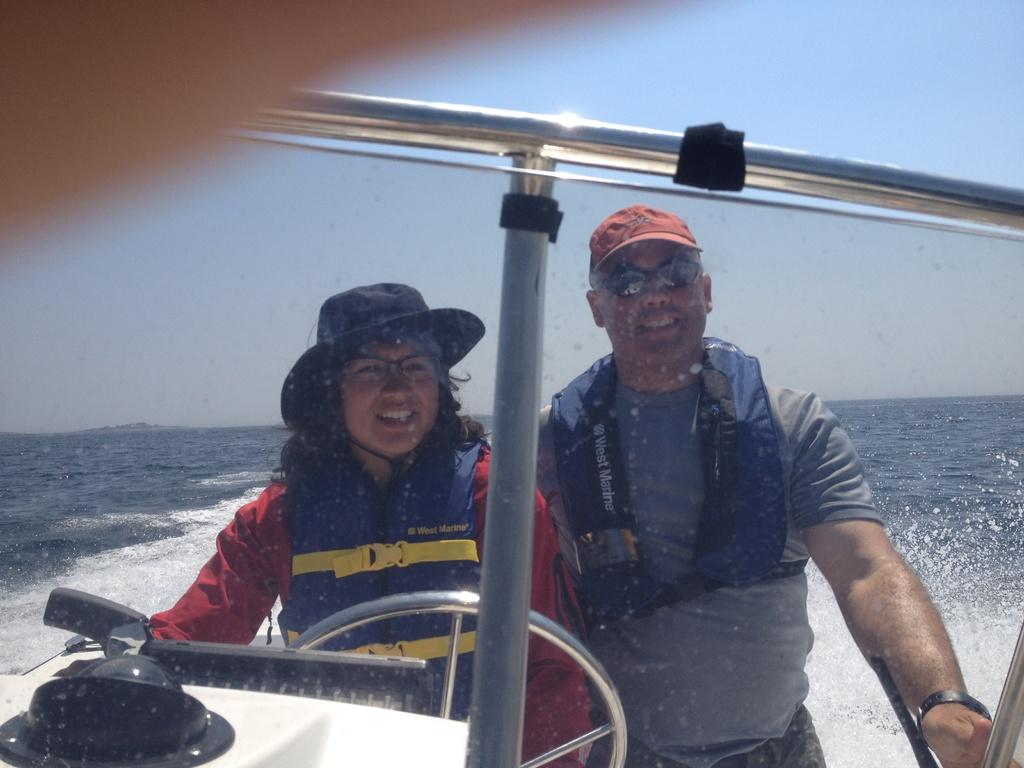Hat: (281, 286, 488, 436), (588, 198, 702, 288)
